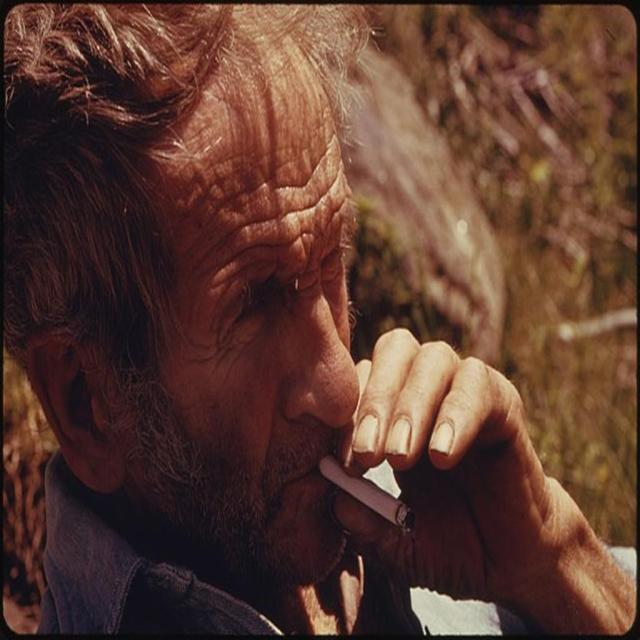smoking: (6, 12, 516, 606)
